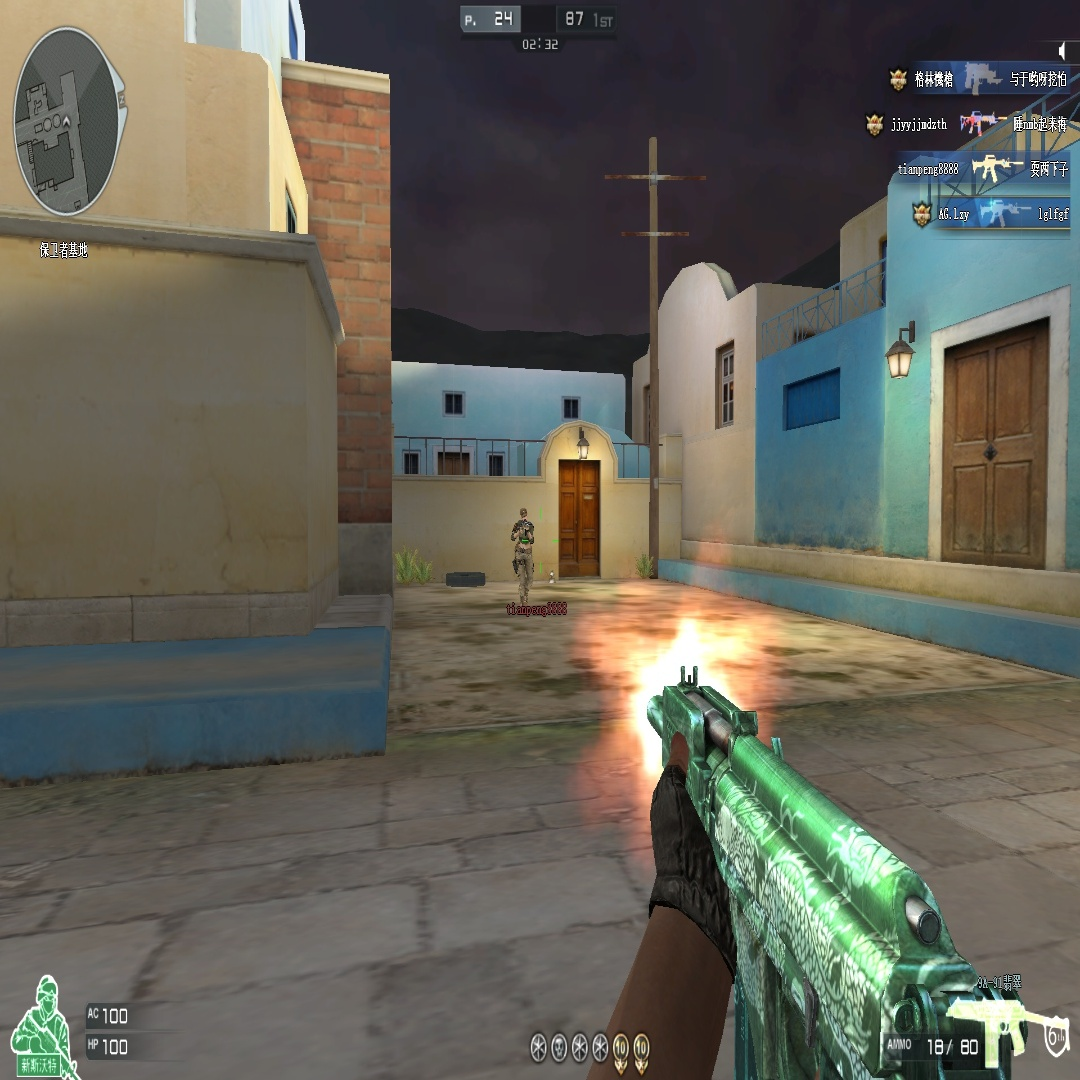p: (508, 504, 536, 611)
